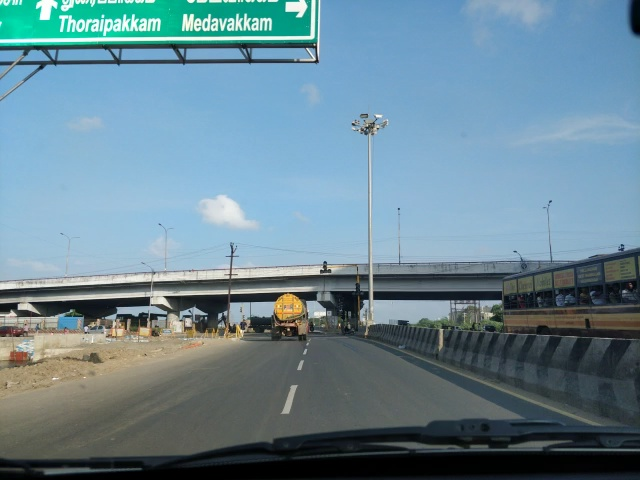bus: (500, 246, 640, 360)
truck: (271, 294, 313, 344), (250, 314, 289, 338)
